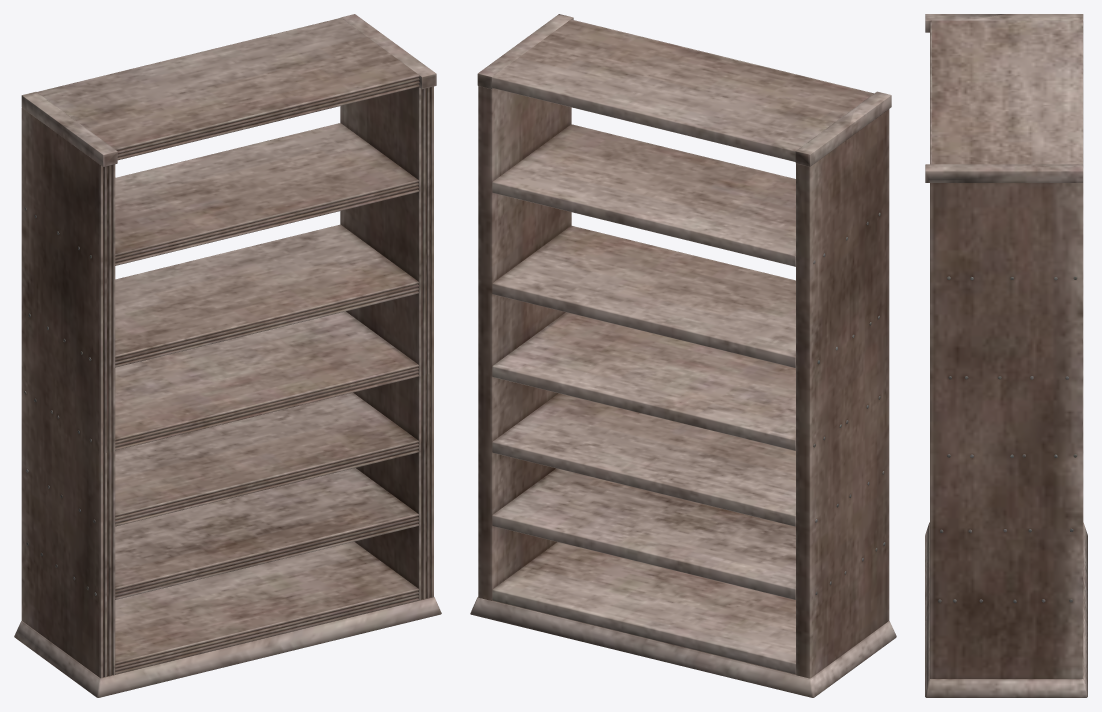
The model's file is wooden_bookshelf_worn.070b7fff.glb.
3 views of the same model, side by side, from view 1: azimuth 30°, elevation 25°; view 2: azimuth 150°, elevation 25°; view 3: azimuth 270°, elevation 25° (orthographic). The views are drawn at different scales.
Visible parts, largest first — view 1: wooden_bookshelf_worn; view 2: wooden_bookshelf_worn; view 3: wooden_bookshelf_worn.
Part boxes in pixels (bbox=[...]): wooden_bookshelf_worn: bbox=[14, 14, 441, 697]; wooden_bookshelf_worn: bbox=[470, 14, 896, 697]; wooden_bookshelf_worn: bbox=[925, 14, 1087, 697].
Bounding box in the file's own units: 0.6659 × 1 × 0.2818.
1 material, 1 textured.
